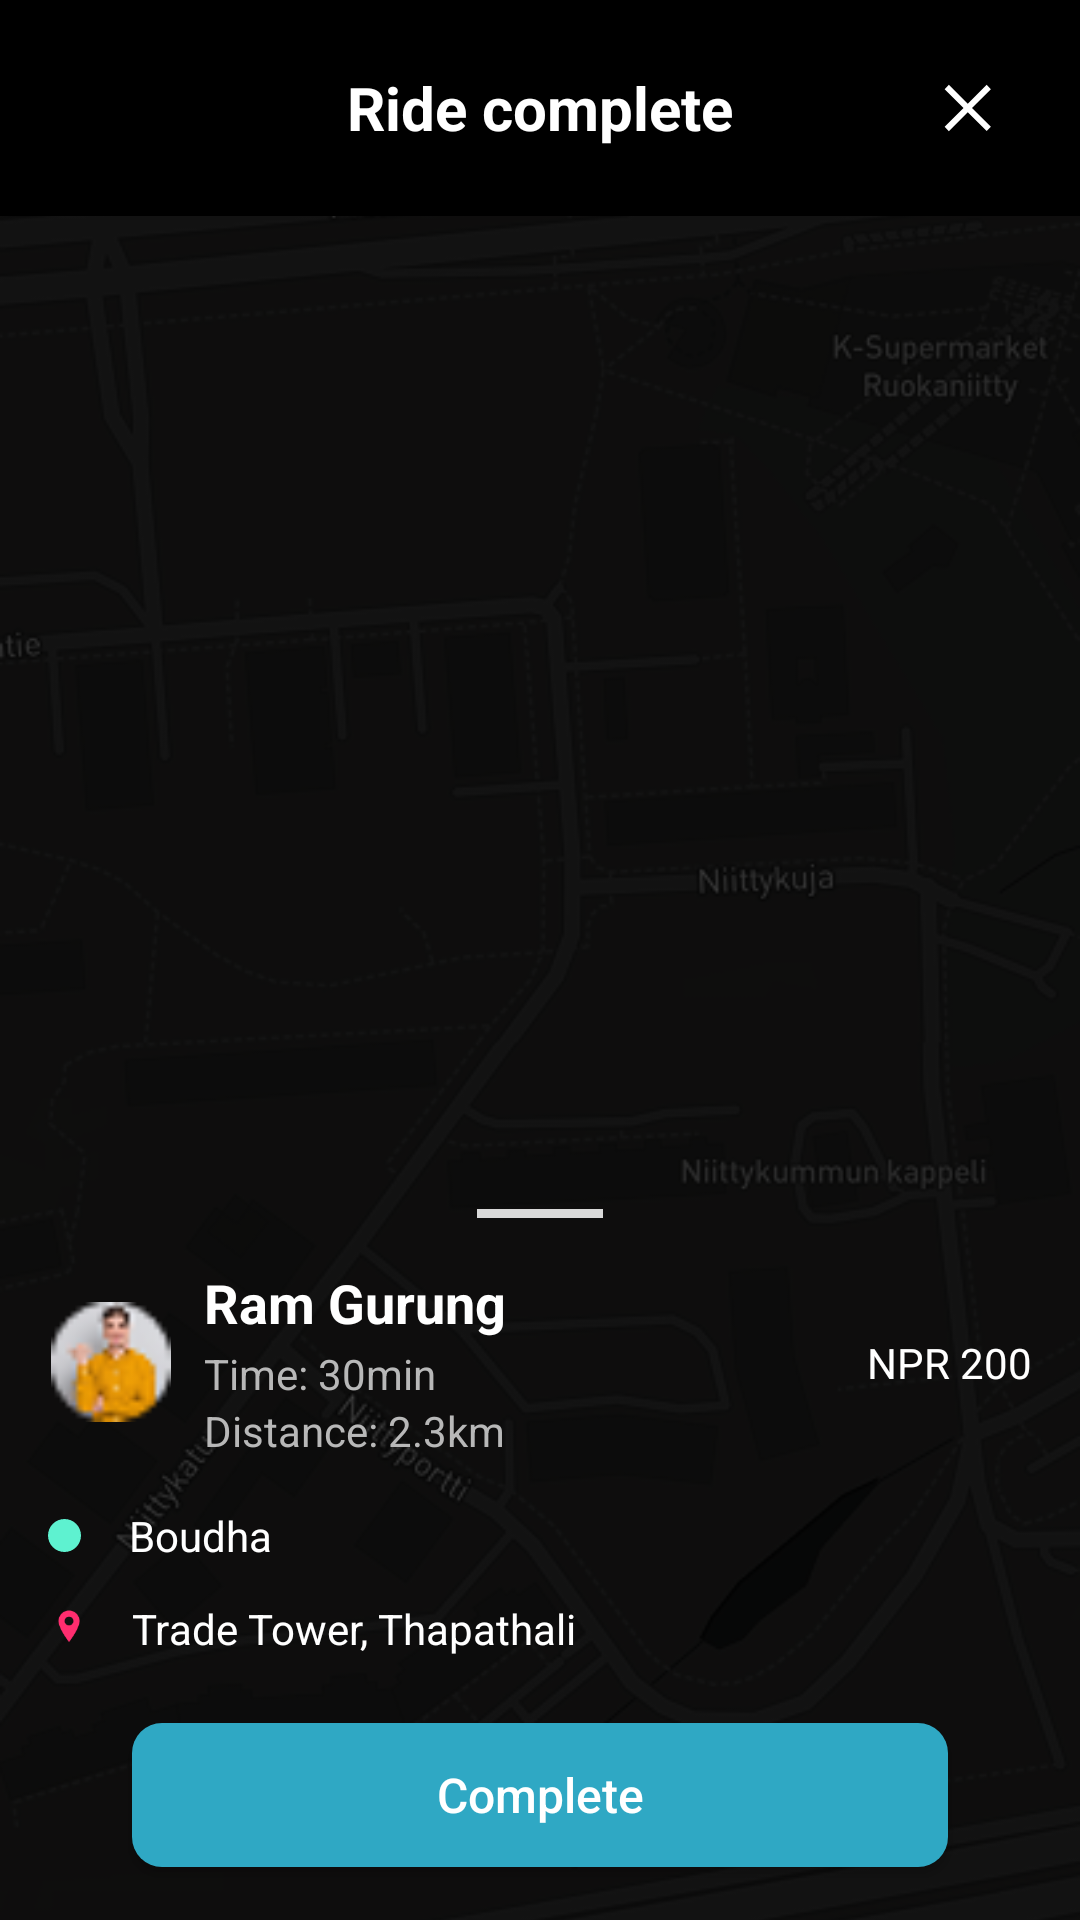

Icons on this 1080px×1920px Android screen, each with its box as (x1, y1, x2, y2):
Close: (944, 85, 991, 131)
Driver profile: (51, 1302, 171, 1422)
location pin: (58, 1610, 80, 1642)
